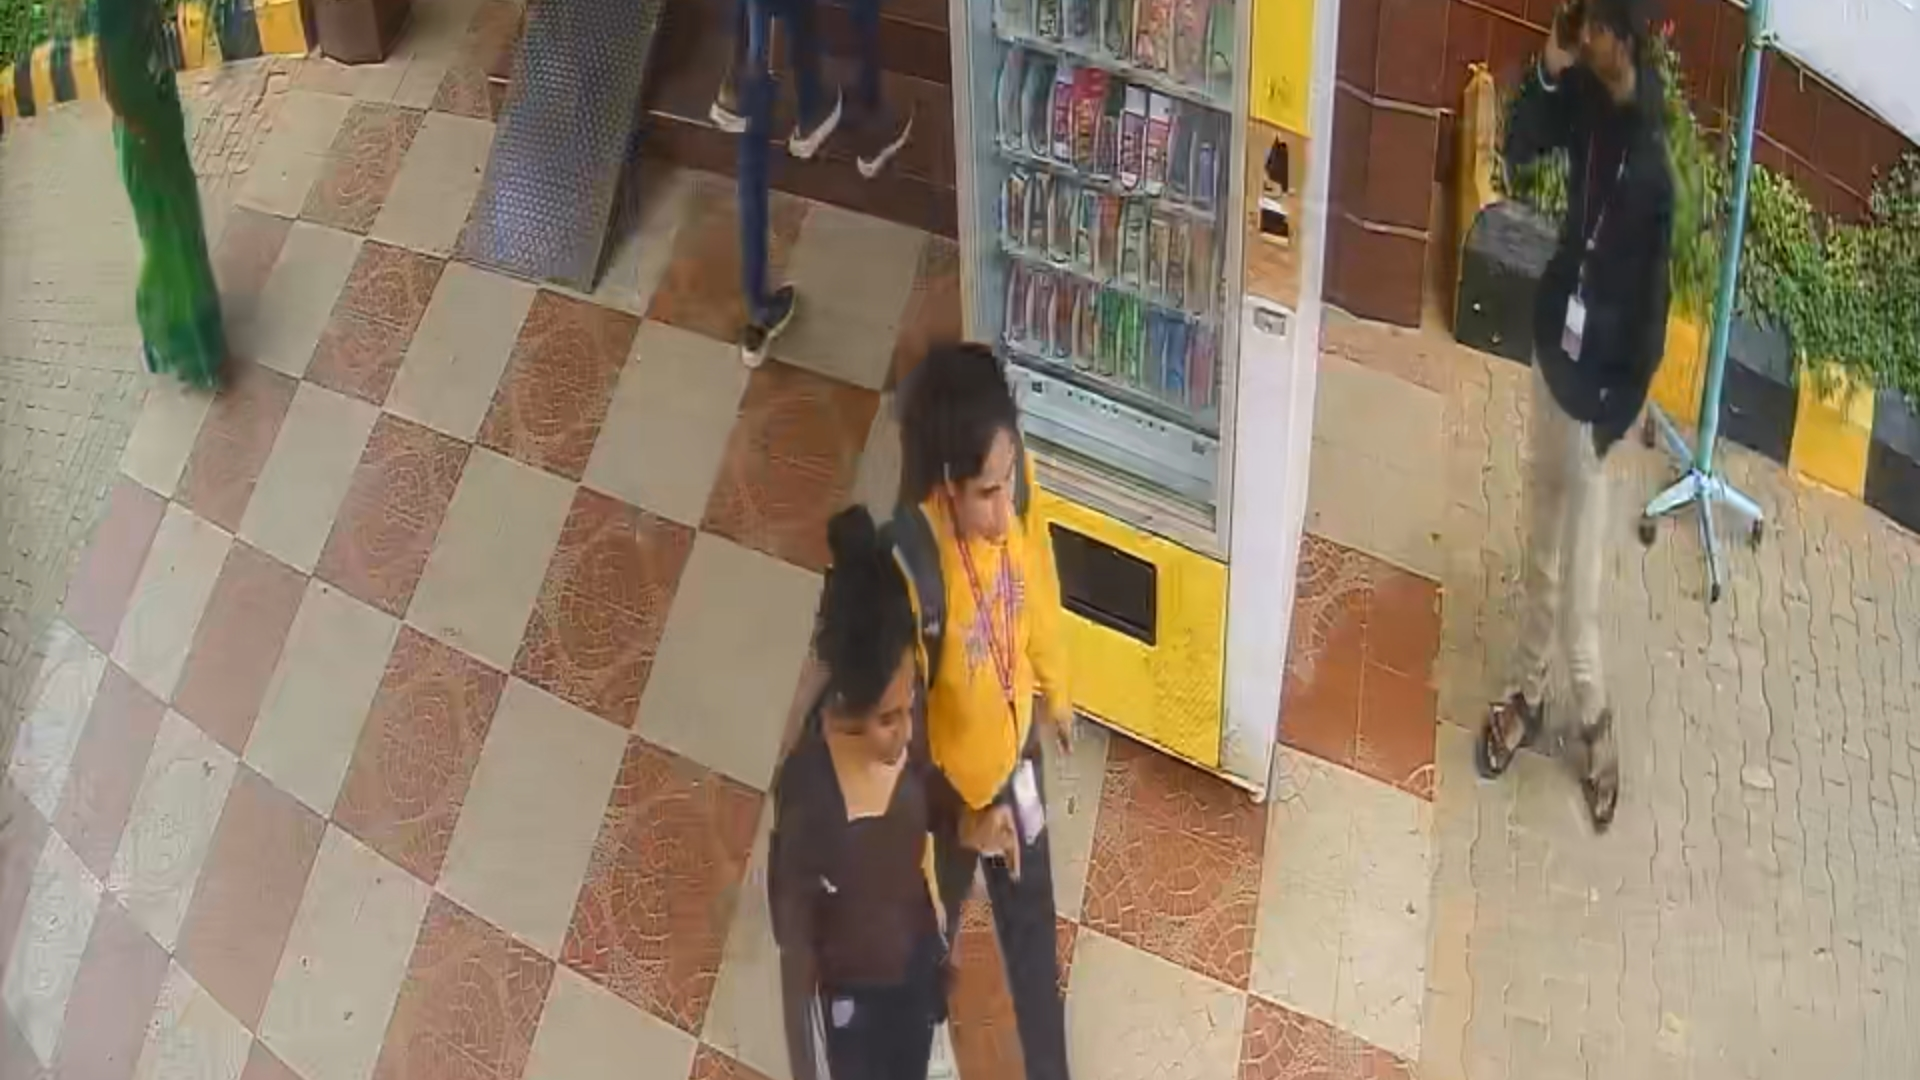intruder: (767, 525, 936, 1080)
not intruder: (895, 328, 1056, 1080)
